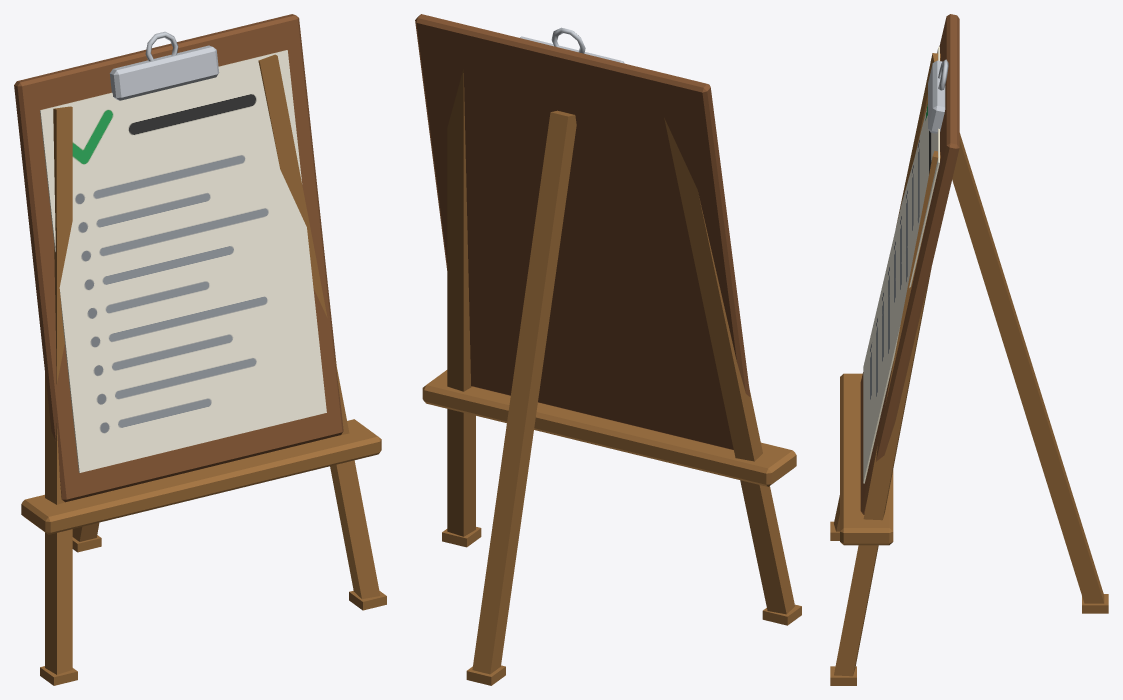
File: list_scroll.glb
3 renders of one model, left to right at view 1: azimuth 30°, elevation 25°; view 2: azimuth 150°, elevation 25°; view 3: azimuth 270°, elevation 25°, orthographic. The views are drawn at different scales.
Visible parts, largest first — view 1: paper, board, easel; view 2: board, easel; view 3: easel, board, paper.
Boxes of the visible parts, x1=… form: paper: x1=40, y1=50, x2=326, y2=472; board: x1=14, y1=14, x2=343, y2=502; easel: x1=21, y1=54, x2=386, y2=685; board: x1=415, y1=14, x2=750, y2=450; easel: x1=422, y1=69, x2=801, y2=685; easel: x1=830, y1=53, x2=1108, y2=685; board: x1=860, y1=14, x2=959, y2=514; paper: x1=863, y1=46, x2=939, y2=483.
Size of the model in its own units: 0.98 by 1.58 by 0.73.
5 materials, 1 textured.
